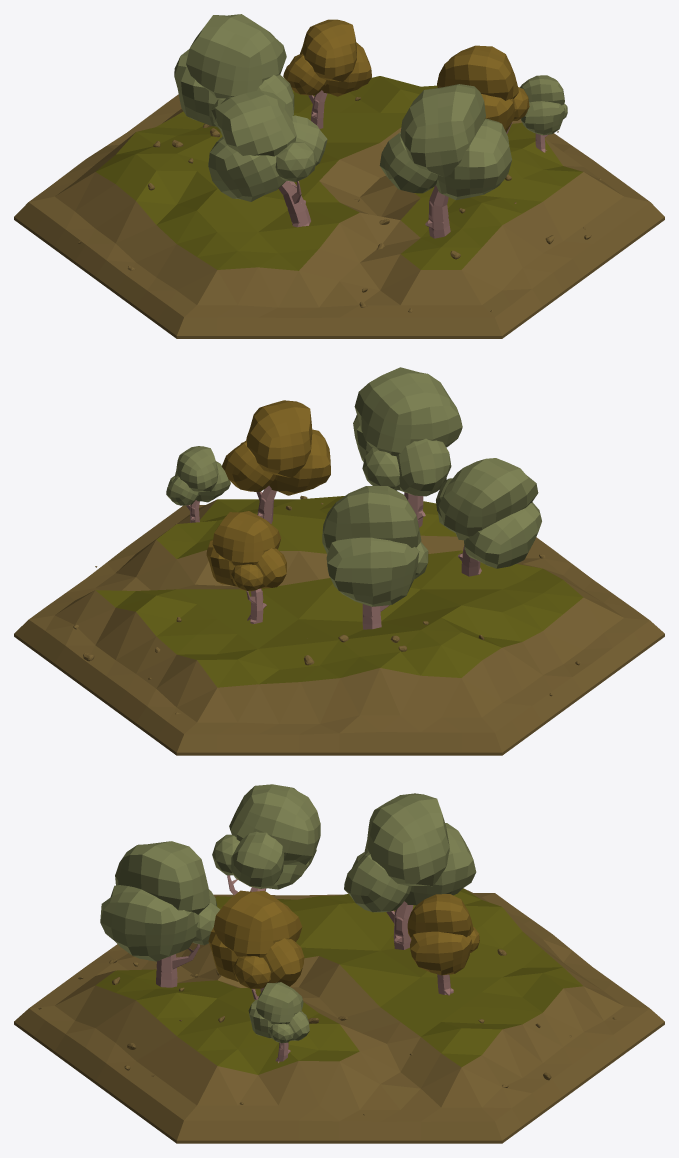
The model's file is tropicalseasonalforest.glb.
3 views of the same model, one above another, from view 1: azimuth 30°, elevation 25°; view 2: azimuth 150°, elevation 25°; view 3: azimuth 270°, elevation 25° (orthographic).
Visible parts, largest first — view 1: land, big_details, small_details; view 2: land, big_details, small_details; view 3: land, big_details, small_details.
Part boxes in pixels (<box>): land: <box>14,76,664,338</box>; big_details: <box>174,14,567,238</box>; small_details: <box>78,97,601,312</box>; land: <box>14,496,664,755</box>; big_details: <box>166,367,541,629</box>; small_details: <box>73,495,580,714</box>; land: <box>14,888,664,1143</box>; big_details: <box>100,784,479,1062</box>; small_details: <box>38,896,616,1115</box>.
Size of the model in its own units: 1.73 by 0.6445 by 2.
